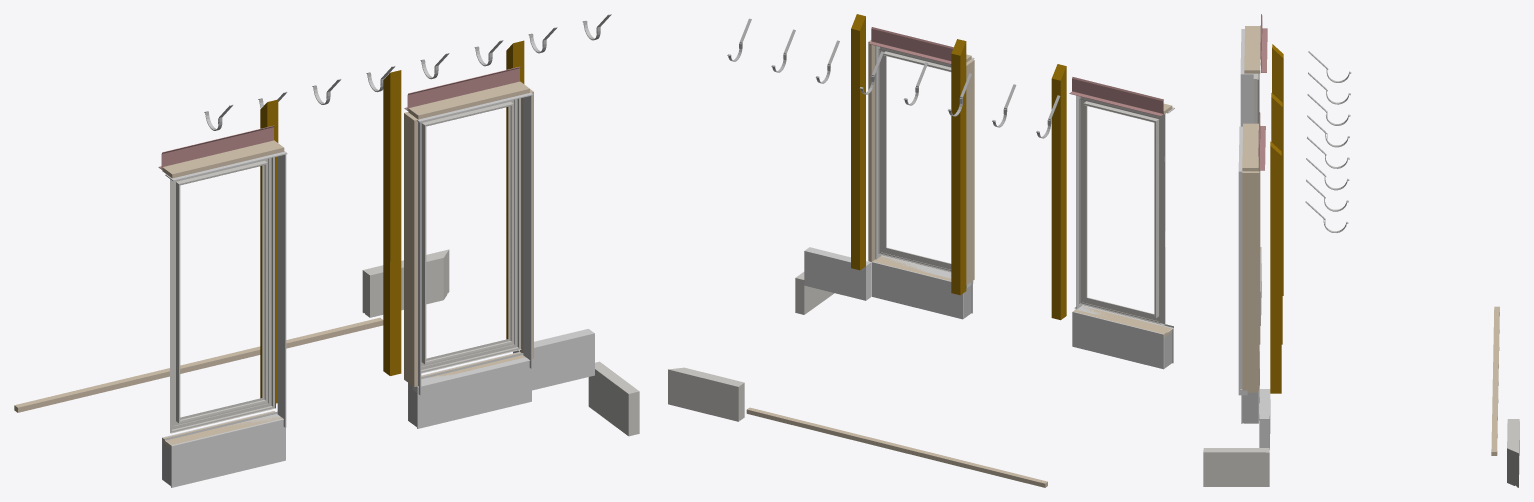
3 views of the same model, side by side, from view 1: azimuth 30°, elevation 25°; view 2: azimuth 150°, elevation 25°; view 3: azimuth 270°, elevation 25° (orthographic). The views are drawn at different scales.
Bounding box in the file's own units: 4.35 × 3.32 × 3.04.
